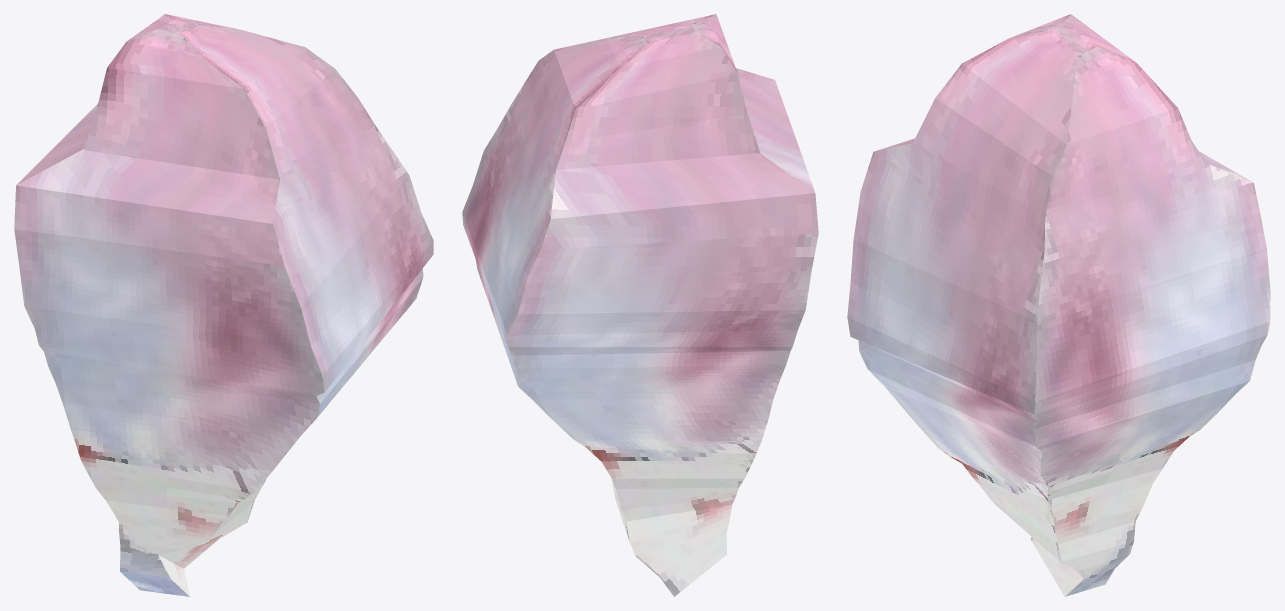
3 renders of one model, left to right at view 1: azimuth 30°, elevation 25°; view 2: azimuth 150°, elevation 25°; view 3: azimuth 270°, elevation 25°, orthographic. The views are drawn at different scales.
Parts seen in each view (by area): view 1: SPLICE_1.003; view 2: SPLICE_1.003; view 3: SPLICE_1.003.
Boxes of the visible parts, x1,y1,x2,y2 form: SPLICE_1.003: [14, 14, 433, 596]; SPLICE_1.003: [462, 14, 818, 596]; SPLICE_1.003: [847, 14, 1270, 596].
Size of the model in its own units: 1.01 by 1.4 by 0.9575.
1 material, 1 textured.
